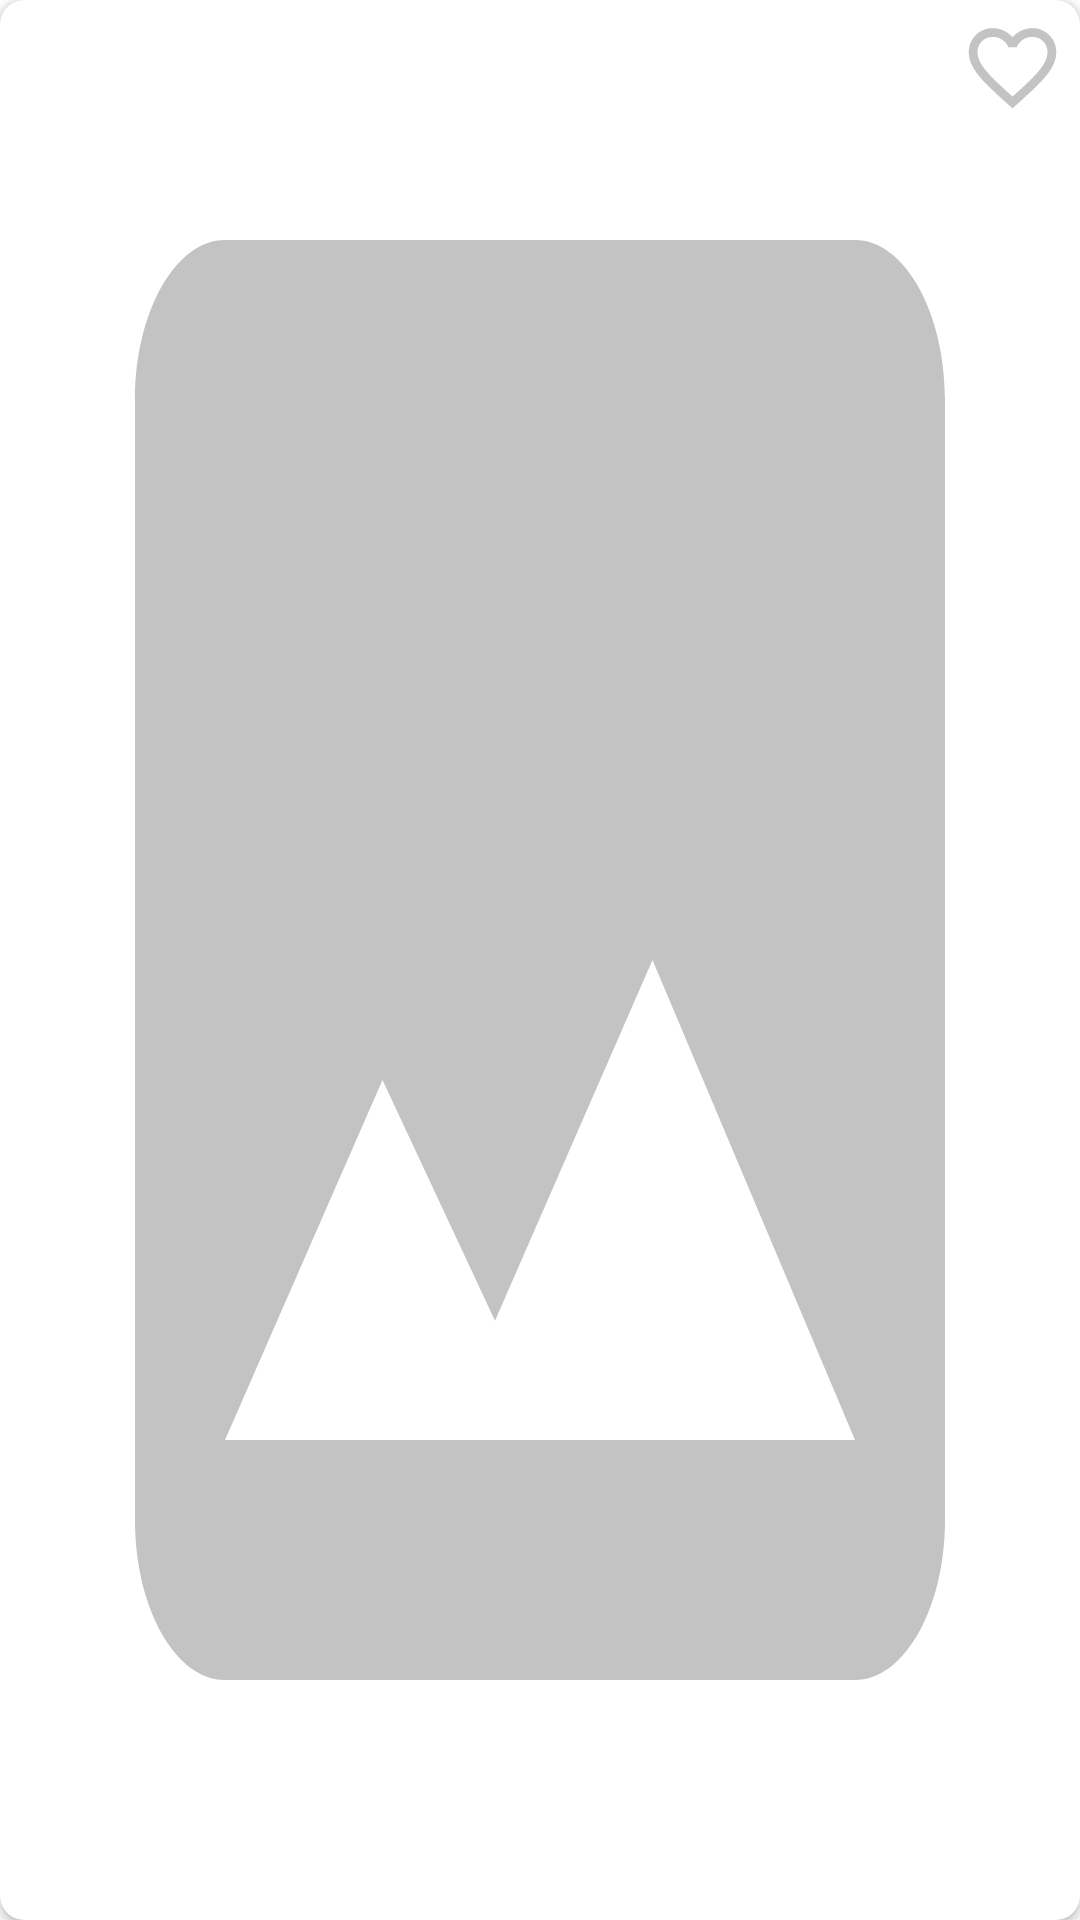

Point at icon controls on the screen. Image size 1080px x 1920px, points as (x=x, y=y).
favorite border: (x=1024, y=54)
